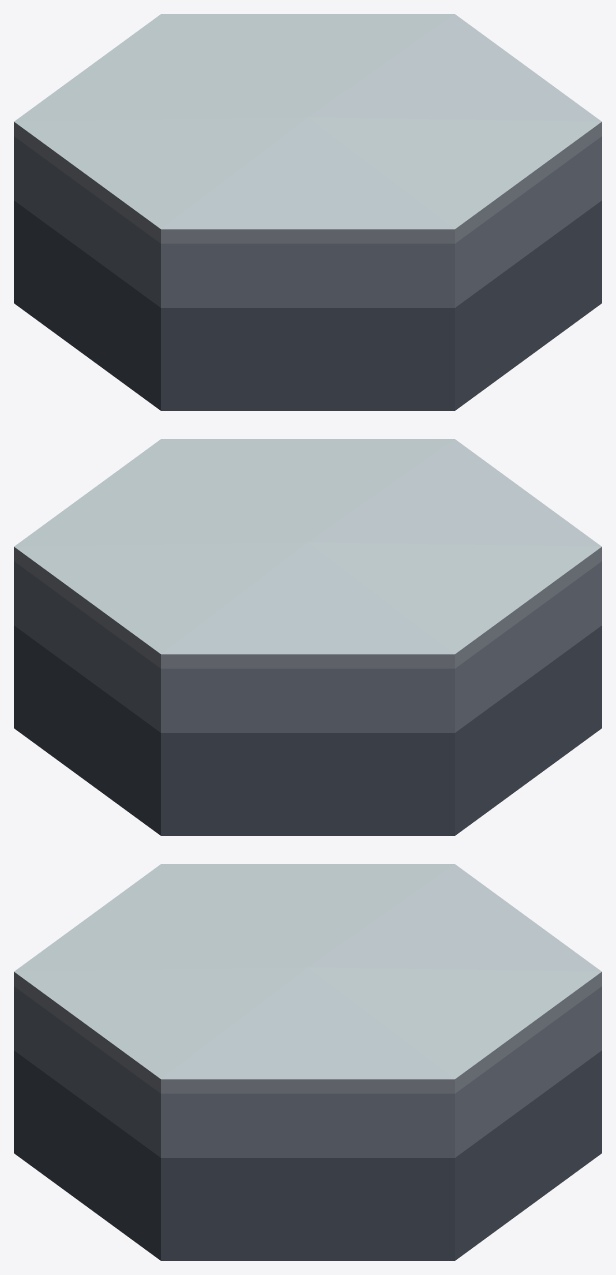
Rendered from AW-HEX-XMAS-FROST-v0.1.glb.
3 renders of one model, top to bottom at view 1: azimuth 30°, elevation 25°; view 2: azimuth 150°, elevation 25°; view 3: azimuth 270°, elevation 25°, orthographic.
Visible parts, largest first — view 1: AW-HEX-XMAS-FROST-v01; view 2: AW-HEX-XMAS-FROST-v01; view 3: AW-HEX-XMAS-FROST-v01.
Boxes of the visible parts, left/top/right/bottom form: AW-HEX-XMAS-FROST-v01: left=14, top=14, right=601, bottom=410; AW-HEX-XMAS-FROST-v01: left=14, top=439, right=601, bottom=835; AW-HEX-XMAS-FROST-v01: left=14, top=864, right=601, bottom=1260.
Size of the model in its own units: 3.81 by 1.54 by 4.4.
